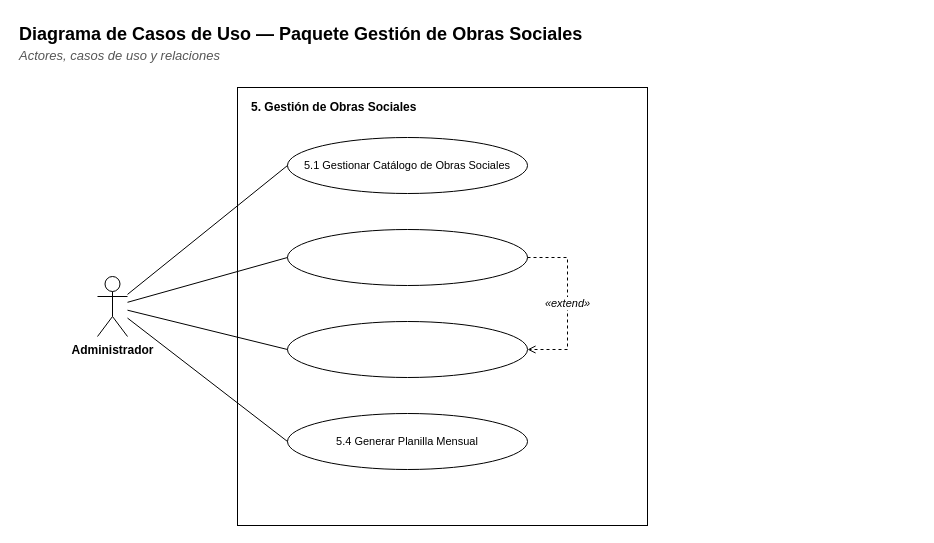
Image size: 934x543. Some labels were removed from this diagram. Here are the shapes that lost their labels. From the top down, the centre of each, then its label:
point 407,257: 5.2 Registrar Autorización
point 407,349: 5.3 Consultar Autorizaciones
